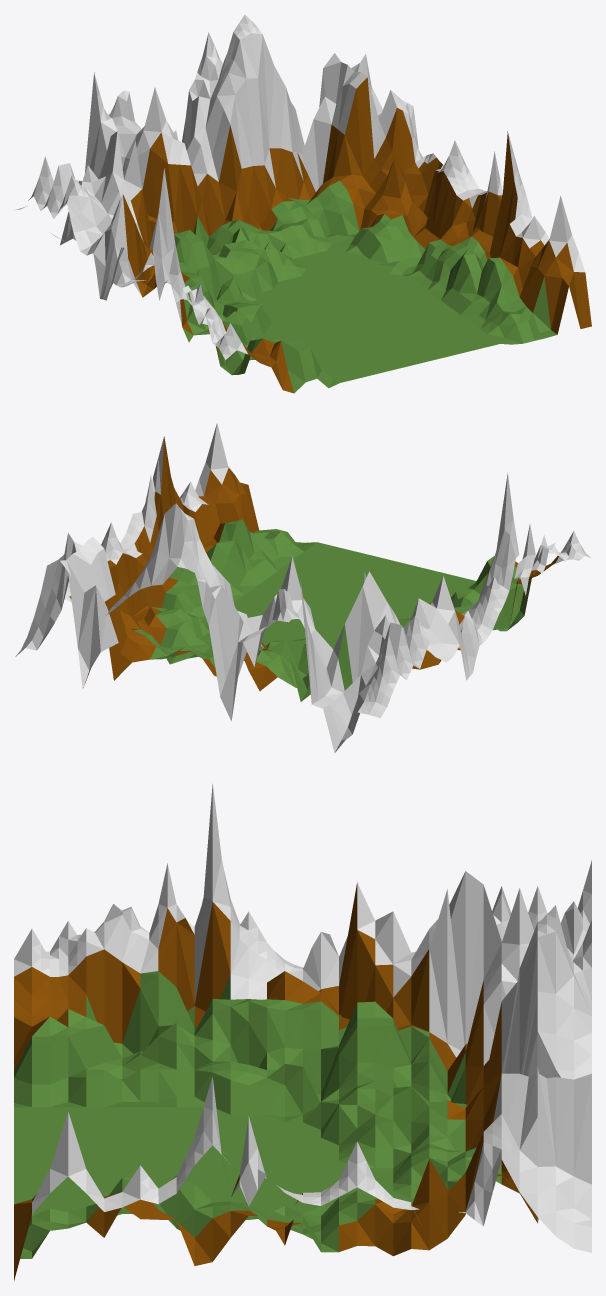
Rendered from Valley Terrain.glb.
3 renders of one model, top to bottom at view 1: azimuth 30°, elevation 25°; view 2: azimuth 150°, elevation 25°; view 3: azimuth 270°, elevation 25°, orthographic. The views are drawn at different scales.
Parts seen in each view (by area): view 1: Terrain_Plane.001; view 2: Terrain_Plane.001; view 3: Terrain_Plane.001.
Boxes of the visible parts, x1,y1,x2,y2 form: Terrain_Plane.001: [14, 14, 591, 393]; Terrain_Plane.001: [15, 423, 591, 752]; Terrain_Plane.001: [14, 783, 591, 1280].
Bounding box in the file's own units: 300 × 159 × 300.
